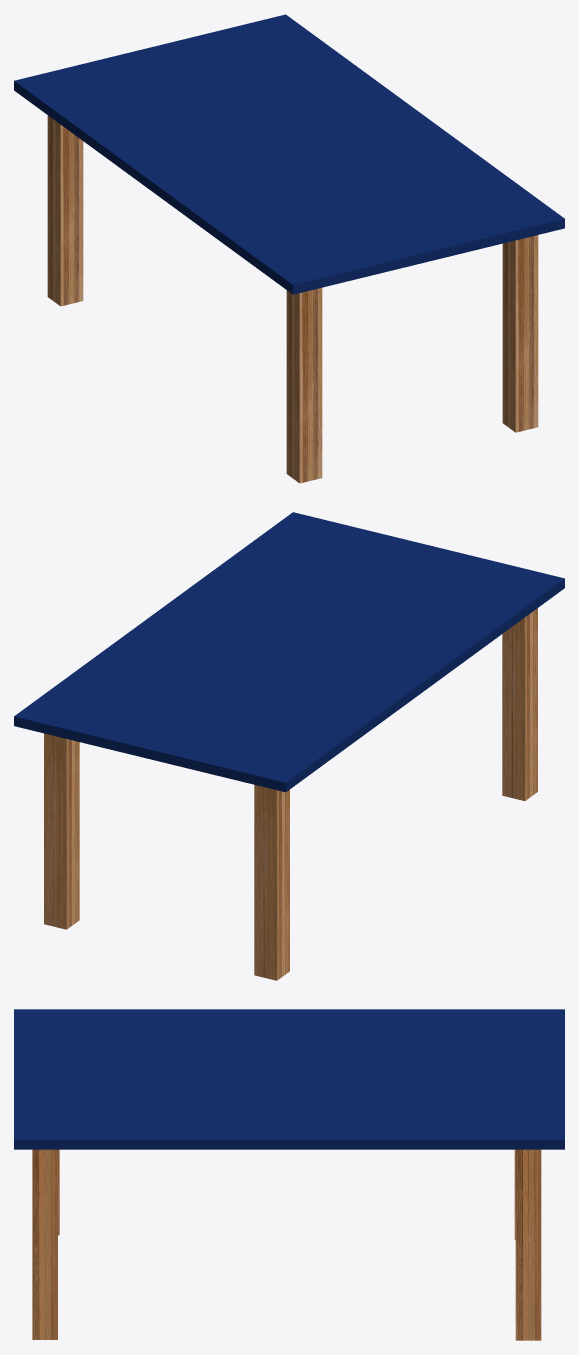
The model's file is tableBlue.obj.
3 views of the same model, one above another, from view 1: azimuth 30°, elevation 25°; view 2: azimuth 150°, elevation 25°; view 3: azimuth 270°, elevation 25° (orthographic).
Parts seen in each view (by area): view 1: Cube, Cube.004, Cube.003, Cube.001; view 2: Cube, Cube.001, Cube.002, Cube.003; view 3: Cube, Cube.002, Cube.004.
Part boxes in pixels (box(x1,y1,x2,y2)): Cube: box(14, 14, 564, 294); Cube.004: box(502, 235, 538, 432); Cube.003: box(286, 287, 322, 483); Cube.001: box(47, 115, 83, 306); Cube: box(14, 512, 564, 792); Cube.001: box(254, 785, 289, 980); Cube.002: box(44, 733, 79, 929); Cube.003: box(502, 608, 537, 800); Cube: box(14, 1009, 564, 1149); Cube.002: box(515, 1149, 541, 1340); Cube.004: box(32, 1149, 57, 1339).
Bounding box in the file's own units: 2.86 × 2.13 × 5.08.
